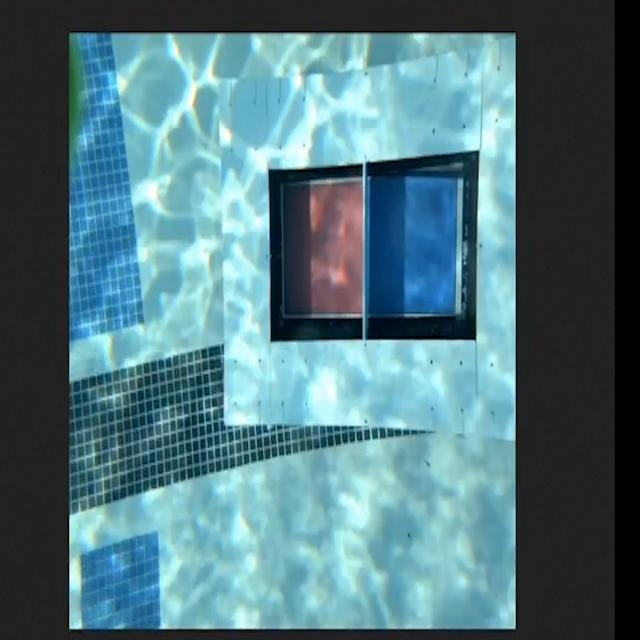Bin: (218, 35, 517, 440)
